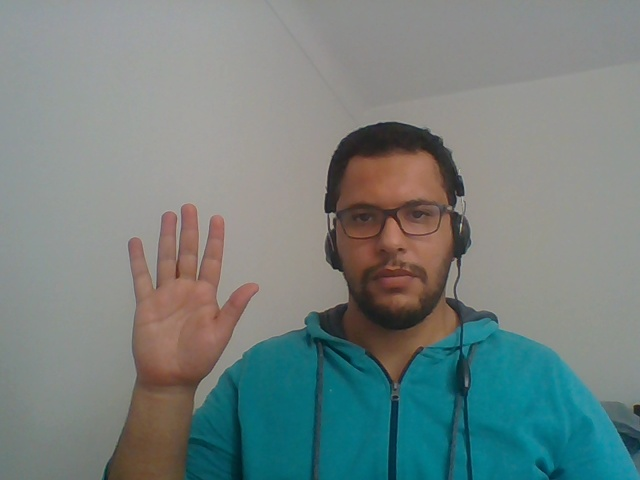hello: (90, 172, 269, 459)
